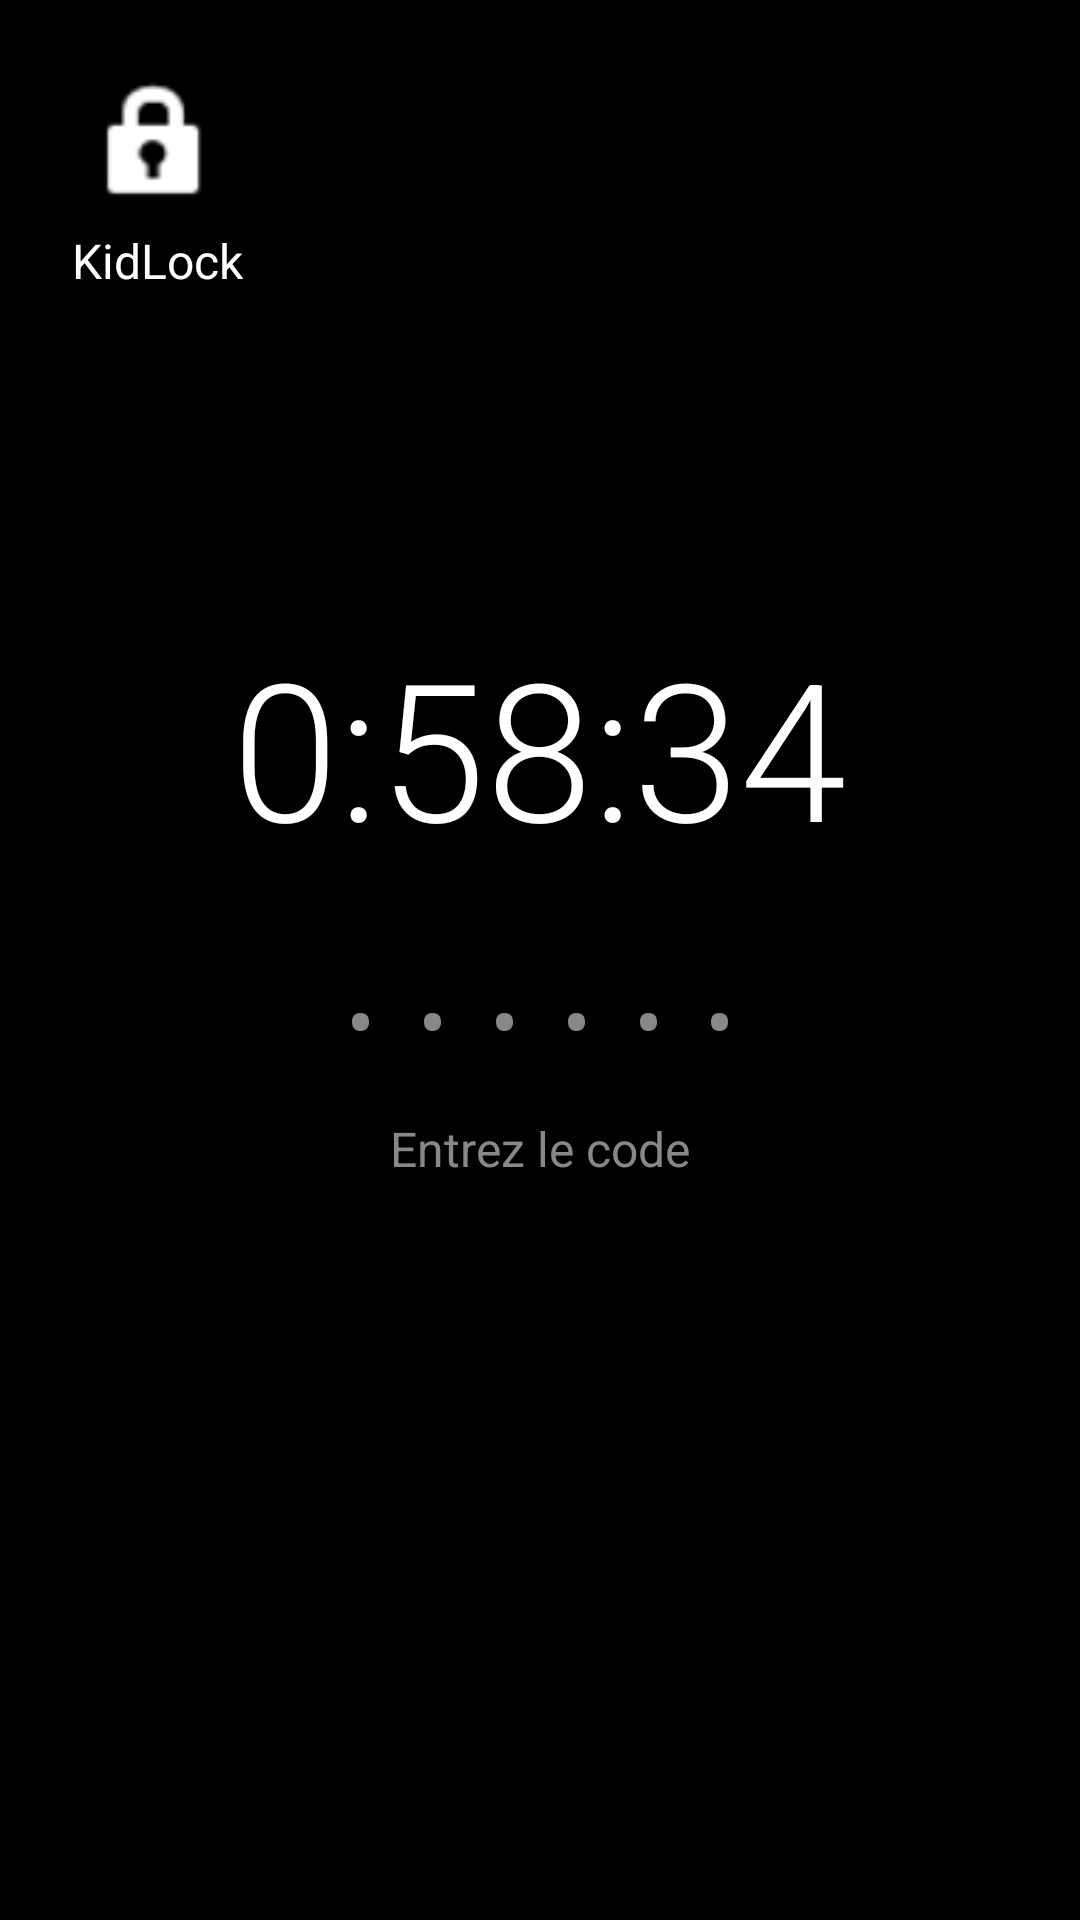

Named icons in this screenshot (1080 × 1920) and their bounding boxes, (x1,y1,x2,y2):
lock idle: (106,84,201,195)
